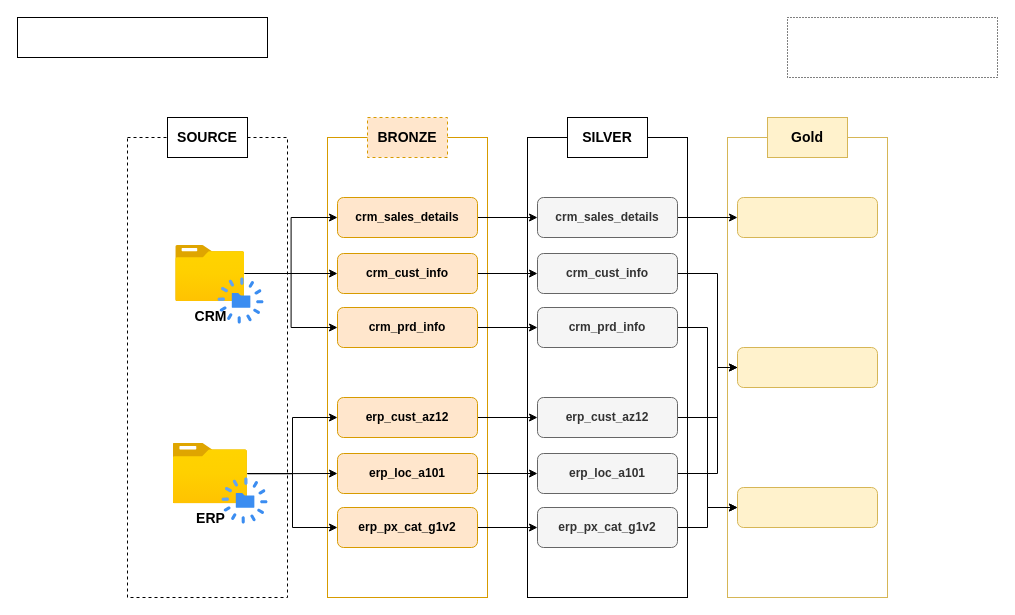
Some shapes in this 1015 by 615 pixel diagram are drawn without their labels. Here are the shapes that lost their labels. From the top down, the centre of each, then its label:
At (x=142, y=37): "Data Flow Diagaram".
At (x=892, y=47): "Faizanfarid Malek".
At (x=807, y=217): "fact_sales".
At (x=807, y=367): "sim_customers".
At (x=807, y=507): "dim_products".
